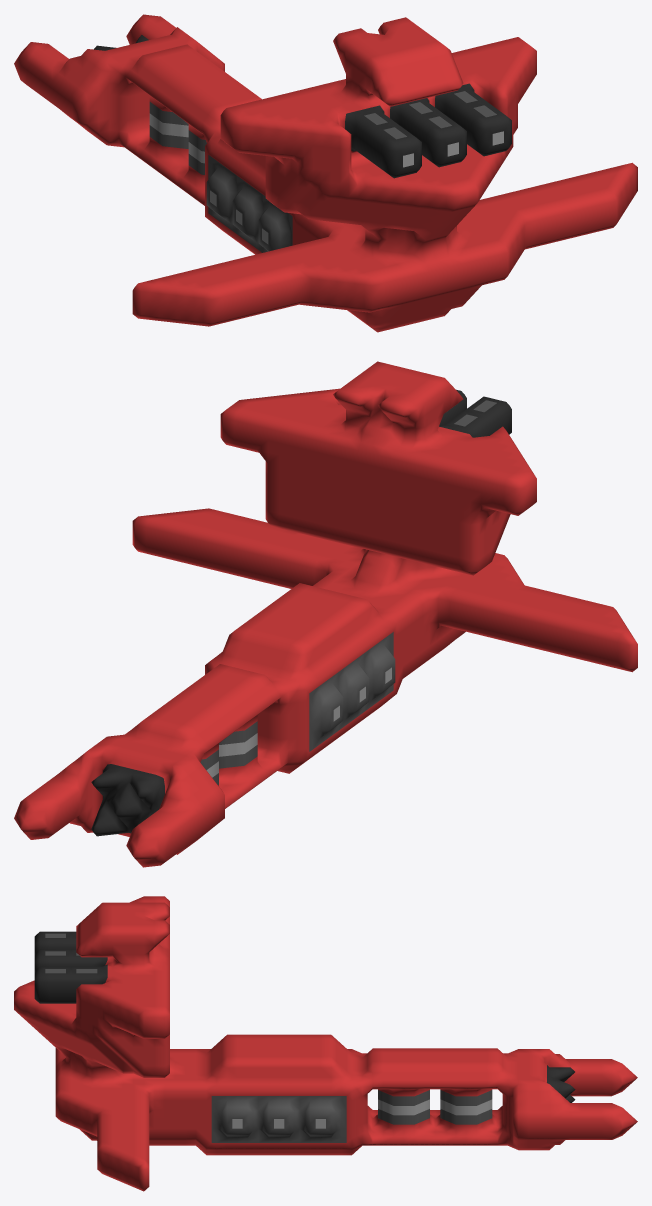
The model's file is fulkreykk-3-tefran-class.obj.
3 views of the same model, one above another, from view 1: azimuth 30°, elevation 25°; view 2: azimuth 150°, elevation 25°; view 3: azimuth 270°, elevation 25° (orthographic). The views are drawn at different scales.
Bounding box in the file's own units: 45 × 24 × 60.
1 material, 1 textured.
